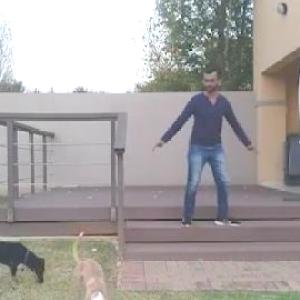land: (171, 68, 248, 239)
